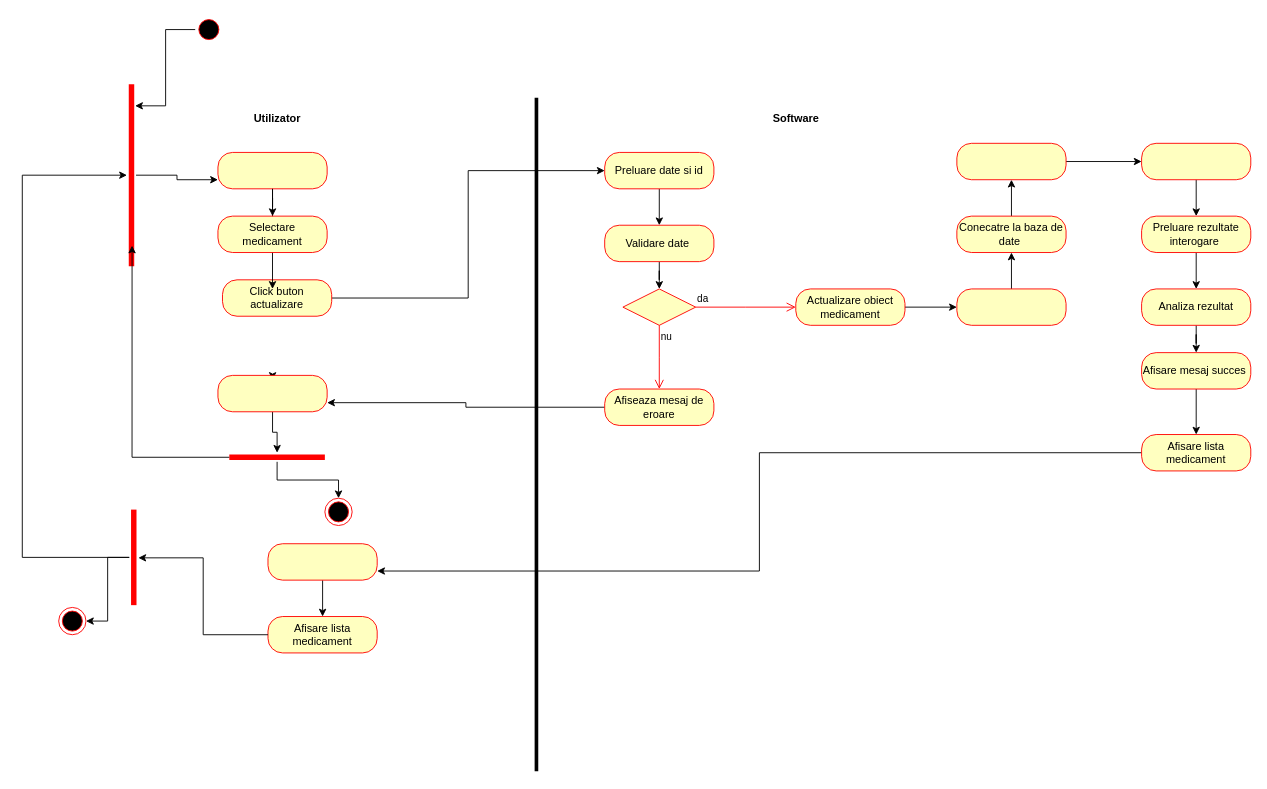
Image size: 1267x789. Some labels were removed from this diagram. Here are the shapes that lost their labels. From the top down, the centre of each, then its label:
At [272,170]: "Introducere nume si producator si selectare imagine".
At [1011,161]: "Executarea interogarii".
At [1196,161]: "Deconectare de la baza de date".
At [1011,306]: "Creare interogare".
At [272,393]: "Vizualizare mesaj de eroare".
At [322,561]: "Afisare mesaj de succes".
